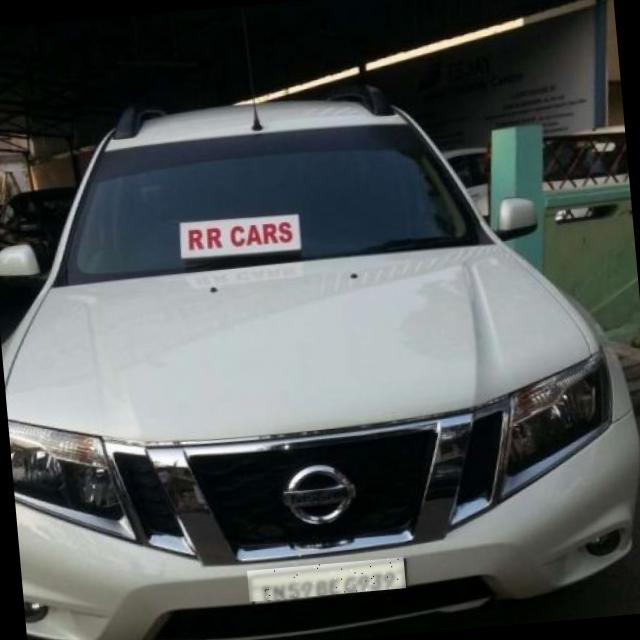Plate: (248, 558, 407, 603)
